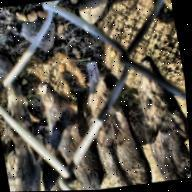boar: (129, 57, 192, 184)
